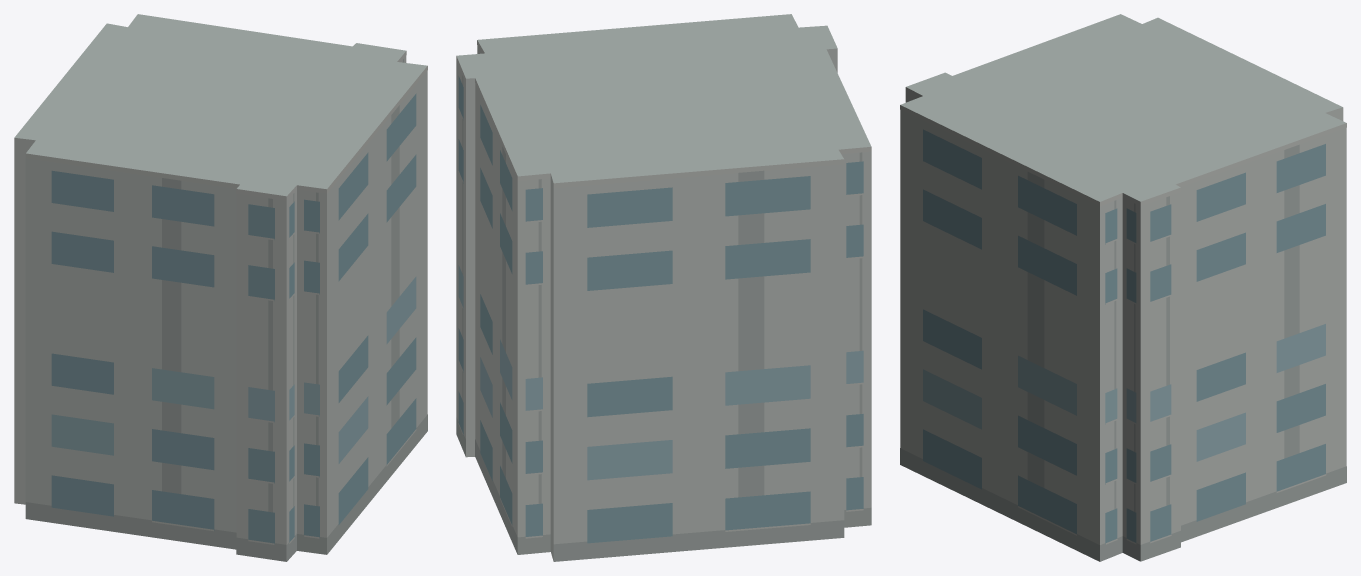
Rendered from survey-upis-32626340.glb.
3 views of the same model, side by side, from view 1: azimuth 30°, elevation 25°; view 2: azimuth 150°, elevation 25°; view 3: azimuth 270°, elevation 25° (orthographic). The views are drawn at different scales.
Visible parts, largest first — view 1: survey-upis-32626340.tmp; view 2: survey-upis-32626340.tmp; view 3: survey-upis-32626340.tmp.
Part boxes in pixels (left/top/right/bottom): survey-upis-32626340.tmp: left=14, top=14, right=427, bottom=561; survey-upis-32626340.tmp: left=456, top=14, right=871, bottom=561; survey-upis-32626340.tmp: left=900, top=14, right=1346, bottom=561.
Bounding box in the file's own units: 21.29 × 19 × 21.38.
